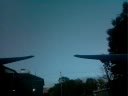window: (0, 12, 28, 96), (37, 46, 61, 61), (36, 87, 64, 96), (91, 66, 96, 72)
